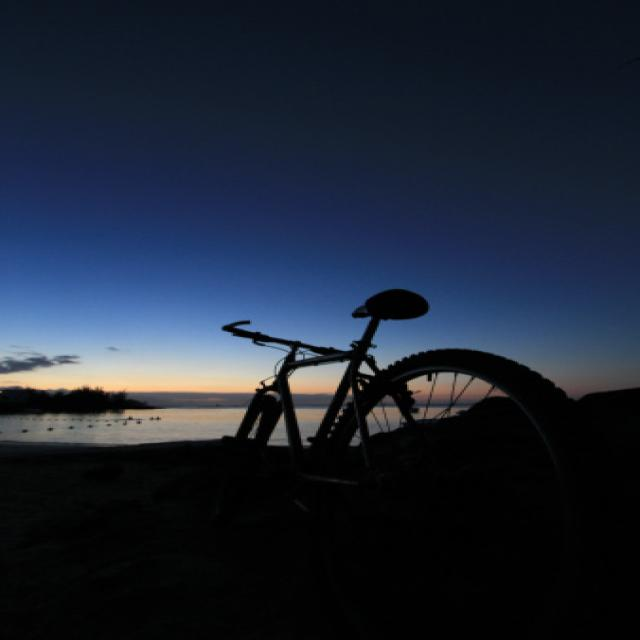Bicycle: (209, 309, 604, 550)
